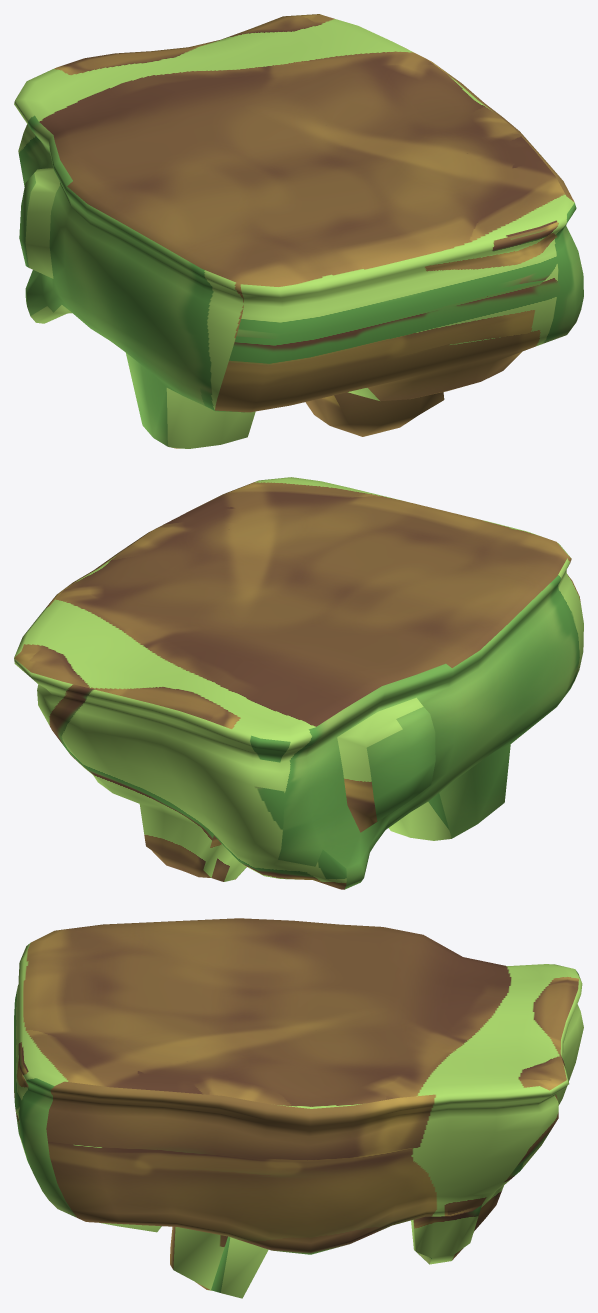
The model's file is floating ground1.fbx.
The picture shows the model from 3 angles, top to bottom: view 1: azimuth 30°, elevation 25°; view 2: azimuth 150°, elevation 25°; view 3: azimuth 270°, elevation 25°; orthographic projection. The views are drawn at different scales.
Parts seen in each view (by area): view 1: Plane; view 2: Plane; view 3: Plane.
Boxes of the visible parts, x1,y1,x2,y2 form: Plane: [14, 14, 583, 448]; Plane: [14, 477, 583, 889]; Plane: [14, 918, 583, 1298].
Size of the model in its own units: 342 by 211 by 426.
